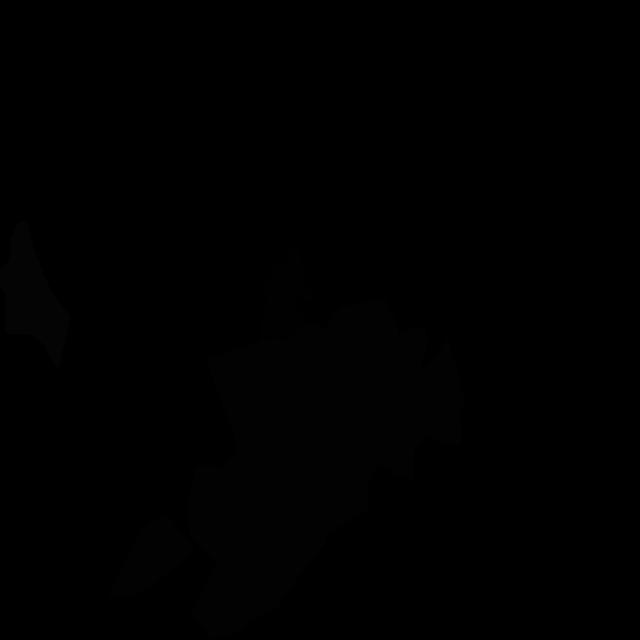cardboard: (206, 298, 465, 544), (188, 439, 325, 639), (108, 513, 195, 598)
rigid_plastic: (260, 241, 313, 342)
soft_plastic: (0, 221, 71, 369)
